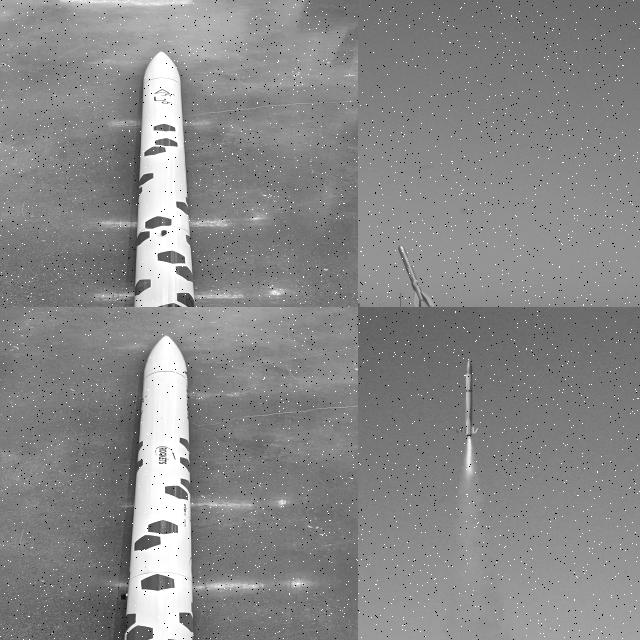Rocket: (120, 334, 195, 640), (133, 50, 195, 307), (397, 244, 435, 307), (455, 359, 480, 436)
